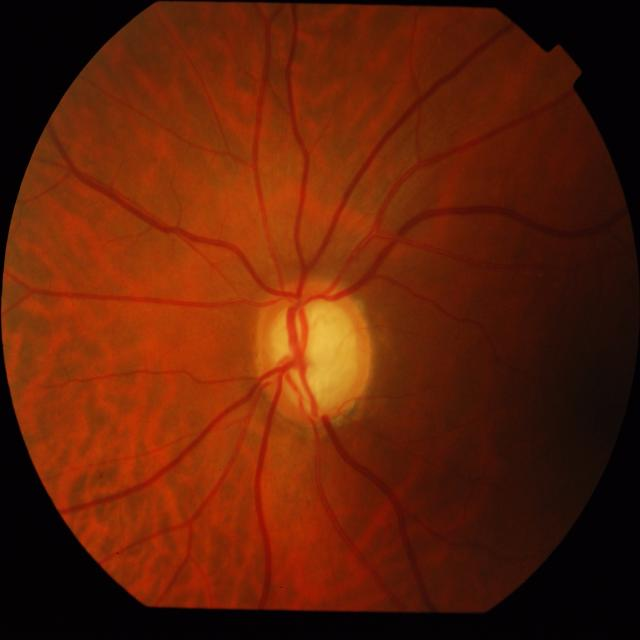OC: (266, 290, 362, 421)
OD: (252, 276, 374, 428)
